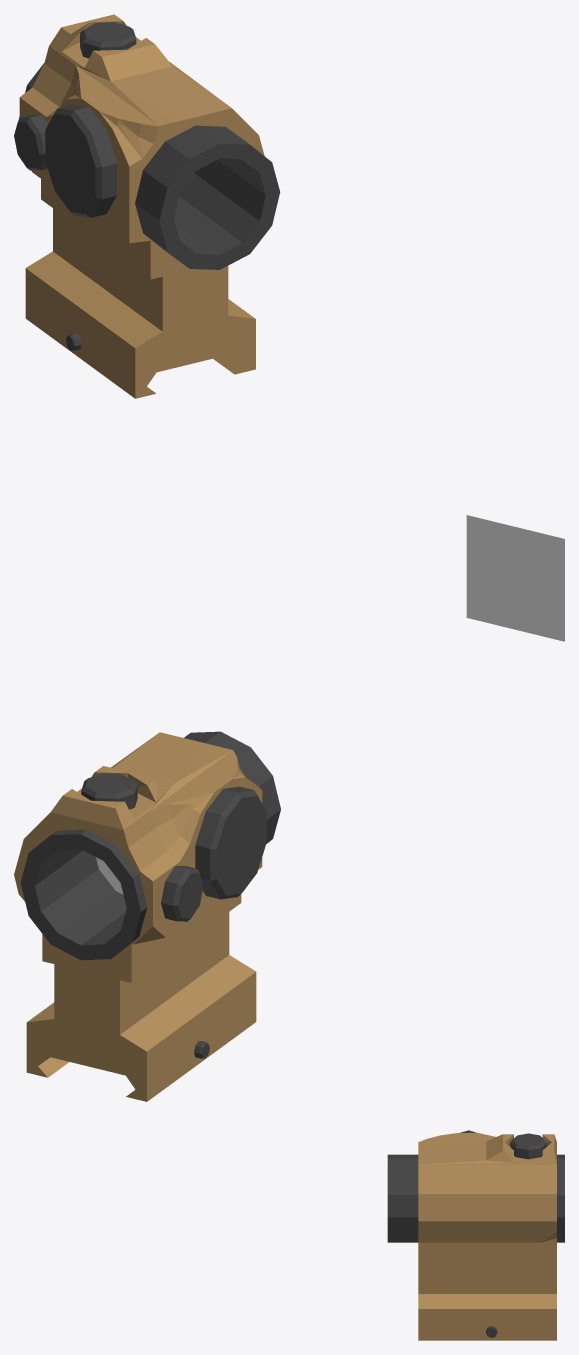
Rendered from att_reddot.glb.
3 renders of one model, top to bottom at view 1: azimuth 30°, elevation 25°; view 2: azimuth 150°, elevation 25°; view 3: azimuth 270°, elevation 25°, orthographic. The views are drawn at different scales.
Visible parts, largest first — view 1: optic_05_0; view 2: optic_05_0, RedDot_0; view 3: optic_05_0.
Part boxes in pixels (x1,y1,x2,y2): optic_05_0: [14, 14, 280, 398]; optic_05_0: [14, 731, 280, 1101]; RedDot_0: [466, 515, 564, 641]; optic_05_0: [387, 1130, 564, 1340].
Bounding box in the file's own units: 0.0363 × 0.063 × 0.173.
Materials: 3 (1 with a texture image).
